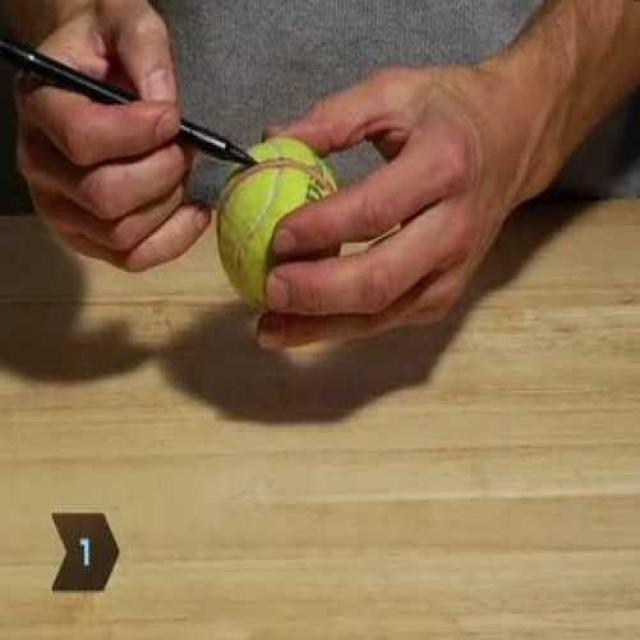Tennis_Ball: (218, 138, 343, 309)
